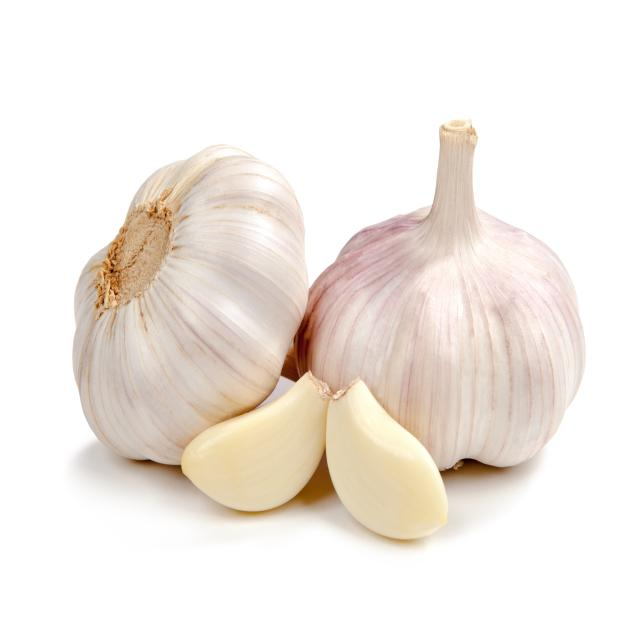garlic: (295, 120, 585, 469), (73, 145, 308, 464), (181, 371, 447, 539)
